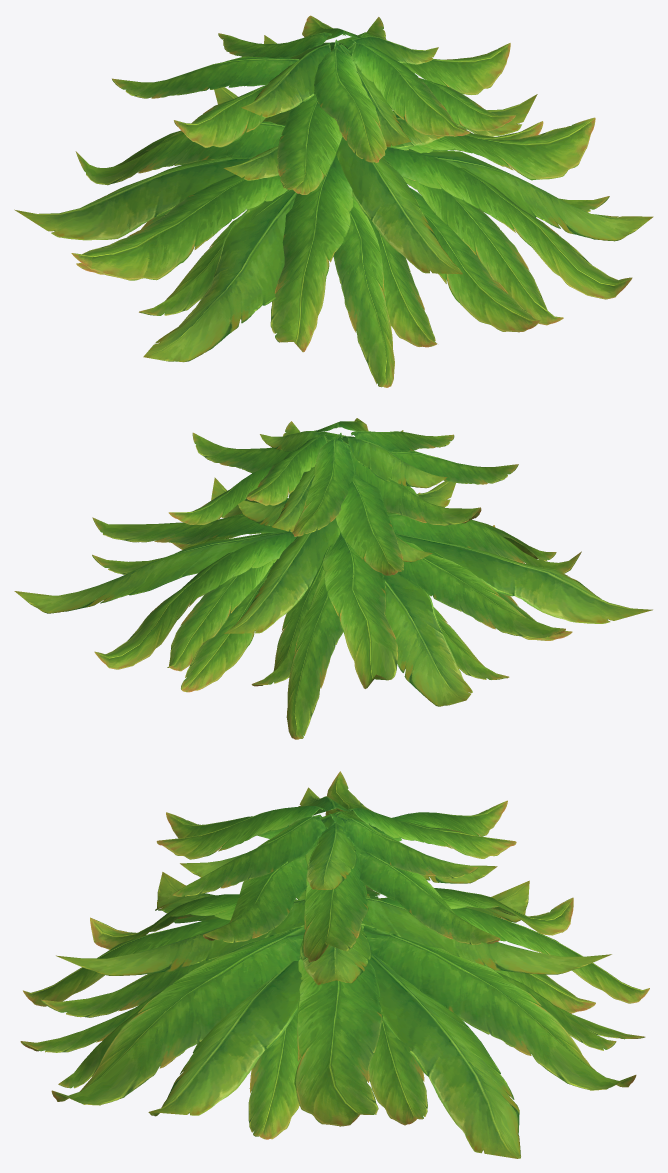
Rendered from Homeworld_Exterior_Xm_Build_House_03_01_Lod0.fbx.
The picture shows the model from 3 angles, top to bottom: view 1: azimuth 30°, elevation 25°; view 2: azimuth 150°, elevation 25°; view 3: azimuth 270°, elevation 25°; orthographic projection. The views are drawn at different scales.
Parts seen in each view (by area): view 1: Homeworld_Exterior_Xm_Build_House_03_01_Lod0; view 2: Homeworld_Exterior_Xm_Build_House_03_01_Lod0; view 3: Homeworld_Exterior_Xm_Build_House_03_01_Lod0.
Boxes of the visible parts, box(x1,y1,x2,y2) form: Homeworld_Exterior_Xm_Build_House_03_01_Lod0: box(14, 15, 653, 387); Homeworld_Exterior_Xm_Build_House_03_01_Lod0: box(14, 418, 652, 739); Homeworld_Exterior_Xm_Build_House_03_01_Lod0: box(20, 771, 649, 1158).
Size of the model in its own units: 19.95 by 7.68 by 18.38.
